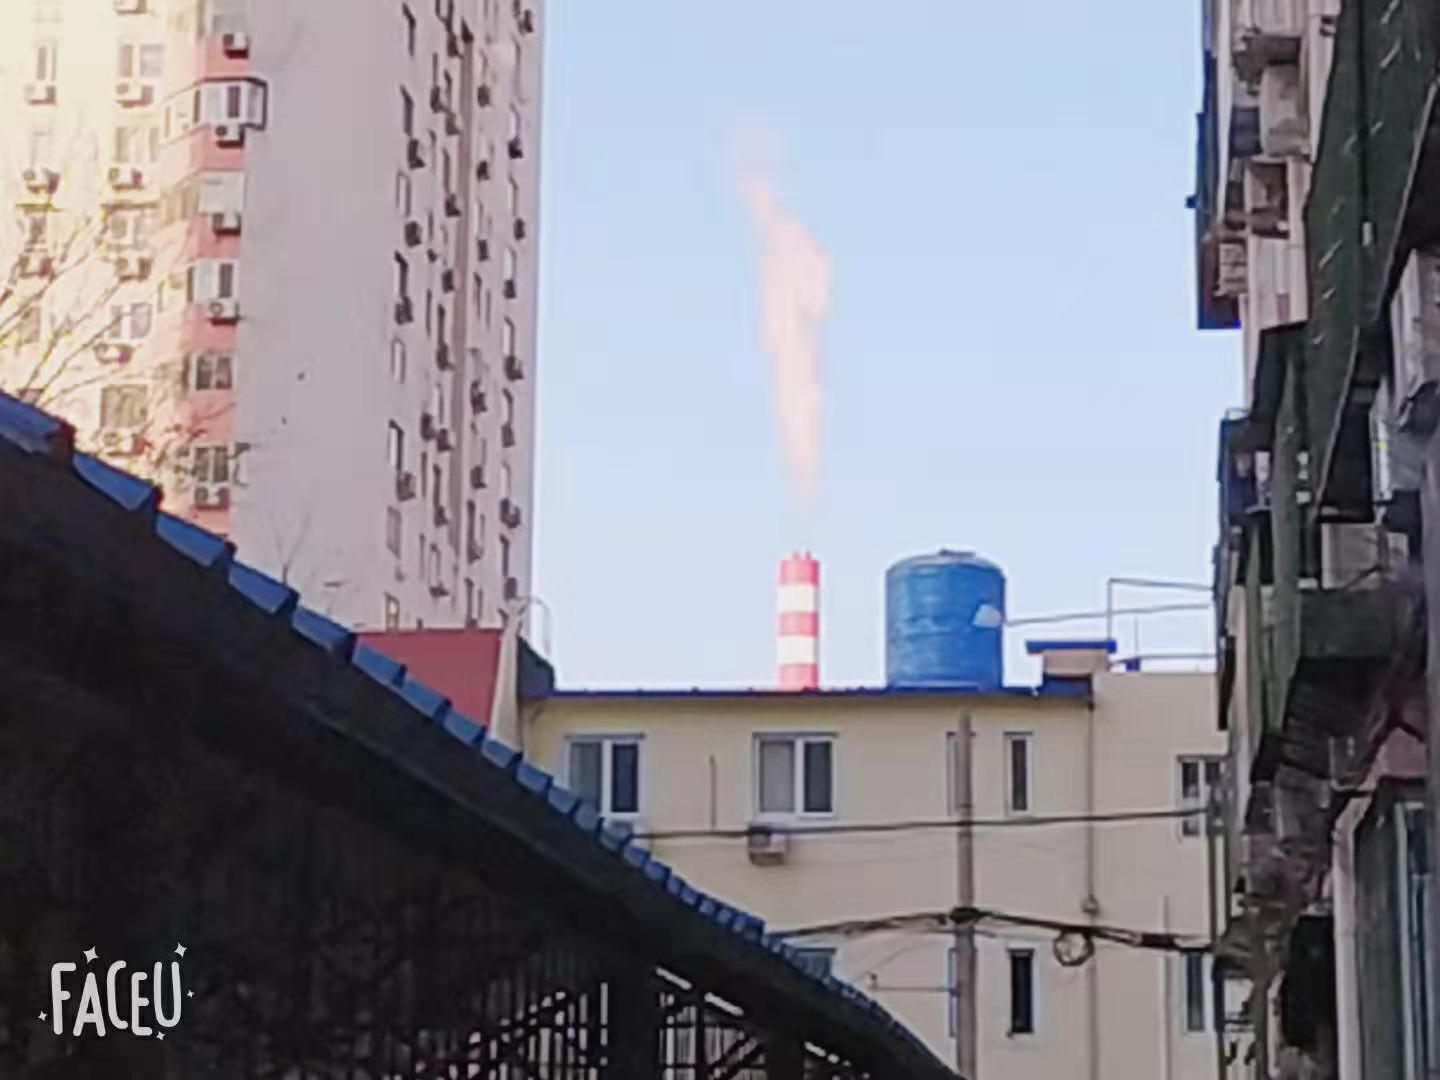yanwu: (722, 151, 847, 491)
